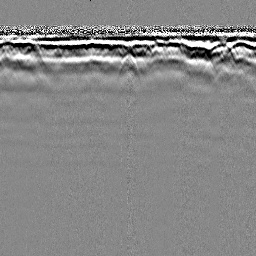cavity: (119, 53, 139, 76)
